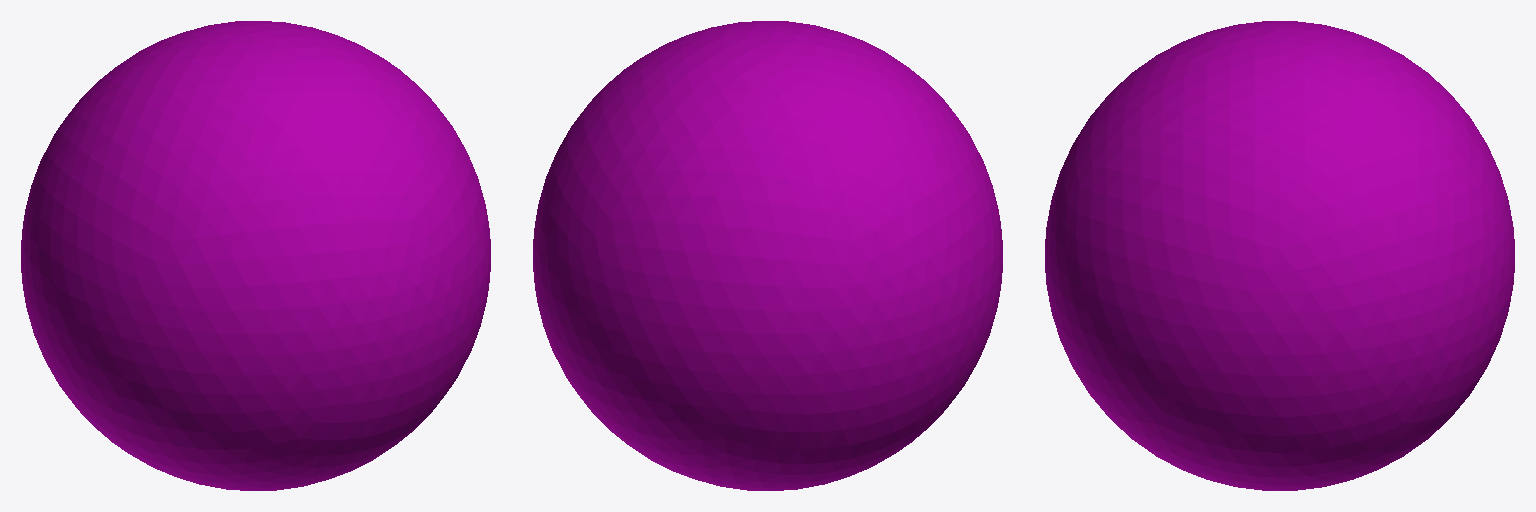
The model's file is beach-ball.obj.
The picture shows the model from 3 angles: view 1: azimuth 30°, elevation 25°; view 2: azimuth 150°, elevation 25°; view 3: azimuth 270°, elevation 25°; orthographic projection.
Visible parts, largest first — view 1: 13065_vn_obj_1; view 2: 13065_vn_obj_1; view 3: 13065_vn_obj_1.
Boxes of the visible parts, <box> form: 13065_vn_obj_1: <box>21,21,490,490</box>; 13065_vn_obj_1: <box>533,21,1002,490</box>; 13065_vn_obj_1: <box>1045,21,1514,490</box>.
Size of the model in its own units: 2 by 2 by 2.